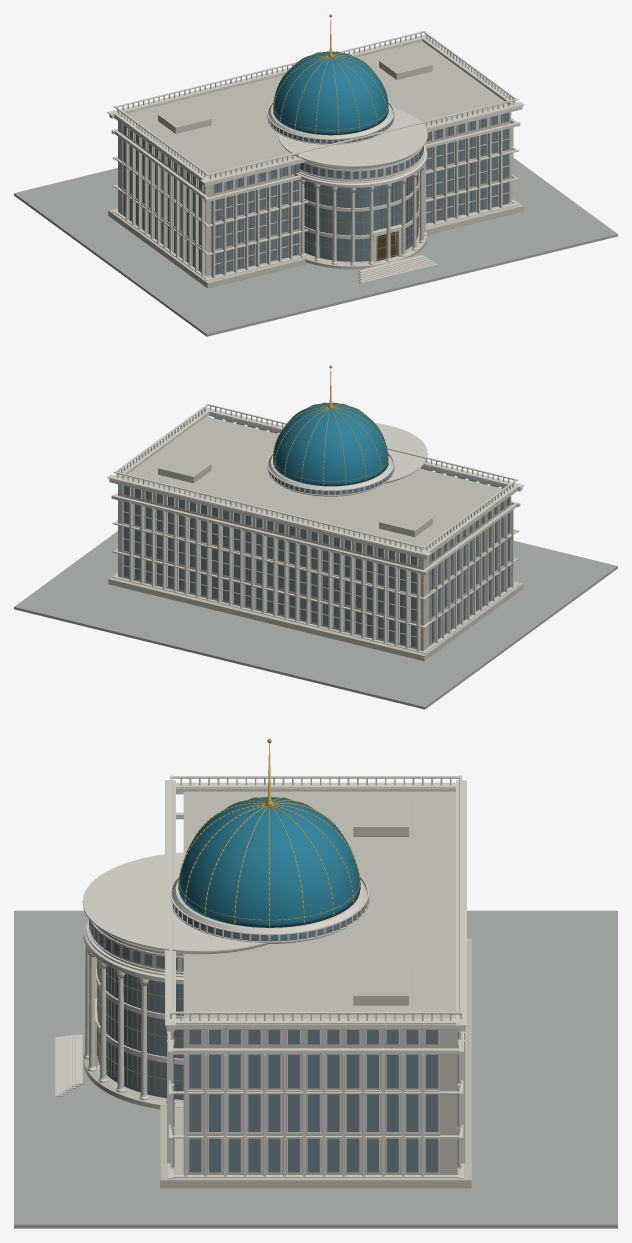
Rendered from akorda-r3-draco.glb.
3 renders of one model, top to bottom at view 1: azimuth 30°, elevation 25°; view 2: azimuth 150°, elevation 25°; view 3: azimuth 270°, elevation 25°, orthographic. The views are drawn at different scales.
Parts seen in each view (by area): view 1: Pale carved stone, Plaza stone, Ivory limestone, Recessed blue glazing, Blue dome, Akorda detailed Bronze window frames, Bronze window frames, Akorda stone spandrels and entrance surround, Architectural gold, Akorda detailed Pale carved stone, Akorda detailed Ivory limestone, Akorda detailed Recessed blue glazing (+1 smaller); view 2: Pale carved stone, Plaza stone, Ivory limestone, Recessed blue glazing, Blue dome, Bronze window frames, Architectural gold, Akorda detailed Ivory limestone, Akorda detailed Bronze window frames, Akorda stone spandrels and entrance surround, Akorda detailed Pale carved stone, Akorda detailed Recessed blue glazing; view 3: Plaza stone, Ivory limestone, Pale carved stone, Recessed blue glazing, Blue dome, Akorda detailed Bronze window frames, Architectural gold, Akorda detailed Pale carved stone, Akorda detailed Ivory limestone, Akorda detailed Recessed blue glazing, Akorda stone spandrels and entrance surround.
Boxes of the visible parts, x1=… form: Pale carved stone: x1=107, y1=31, x2=524, y2=283; Plaza stone: x1=14, y1=158, x2=617, y2=336; Ivory limestone: x1=108, y1=41, x2=523, y2=288; Recessed blue glazing: x1=123, y1=113, x2=508, y2=274; Blue dome: x1=273, y1=51, x2=388, y2=135; Akorda detailed Bronze window frames: x1=125, y1=119, x2=482, y2=270; Bronze window frames: x1=125, y1=114, x2=508, y2=274; Akorda stone spandrels and entrance surround: x1=215, y1=138, x2=508, y2=264; Architectural gold: x1=273, y1=14, x2=395, y2=261; Akorda detailed Pale carved stone: x1=267, y1=100, x2=424, y2=180; Akorda detailed Ivory limestone: x1=122, y1=150, x2=509, y2=251; Akorda detailed Recessed blue glazing: x1=268, y1=102, x2=393, y2=143; Pale carved stone: x1=107, y1=403, x2=524, y2=653; Plaza stone: x1=14, y1=531, x2=617, y2=709; Ivory limestone: x1=108, y1=416, x2=523, y2=661; Recessed blue glazing: x1=123, y1=417, x2=509, y2=647; Blue dome: x1=273, y1=403, x2=388, y2=486; Bronze window frames: x1=123, y1=417, x2=508, y2=647; Architectural gold: x1=273, y1=365, x2=388, y2=486; Akorda detailed Ivory limestone: x1=122, y1=523, x2=511, y2=624; Akorda detailed Bronze window frames: x1=149, y1=492, x2=508, y2=642; Akorda stone spandrels and entrance surround: x1=123, y1=511, x2=416, y2=637; Akorda detailed Pale carved stone: x1=267, y1=452, x2=423, y2=495; Akorda detailed Recessed blue glazing: x1=268, y1=454, x2=393, y2=494; Plaza stone: x1=14, y1=910, x2=617, y2=1228; Ivory limestone: x1=83, y1=791, x2=471, y2=1188; Pale carved stone: x1=55, y1=775, x2=466, y2=1178; Recessed blue glazing: x1=89, y1=919, x2=458, y2=1172; Blue dome: x1=179, y1=797, x2=359, y2=927; Akorda detailed Bronze window frames: x1=97, y1=959, x2=432, y2=1171; Architectural gold: x1=178, y1=738, x2=360, y2=928; Akorda detailed Pale carved stone: x1=88, y1=874, x2=369, y2=973; Akorda detailed Ivory limestone: x1=171, y1=1039, x2=460, y2=1135; Akorda detailed Recessed blue glazing: x1=171, y1=878, x2=367, y2=941; Akorda stone spandrels and entrance surround: x1=95, y1=968, x2=183, y2=1067.
Size of the model in its own units: 160 by 79.1 by 130.
